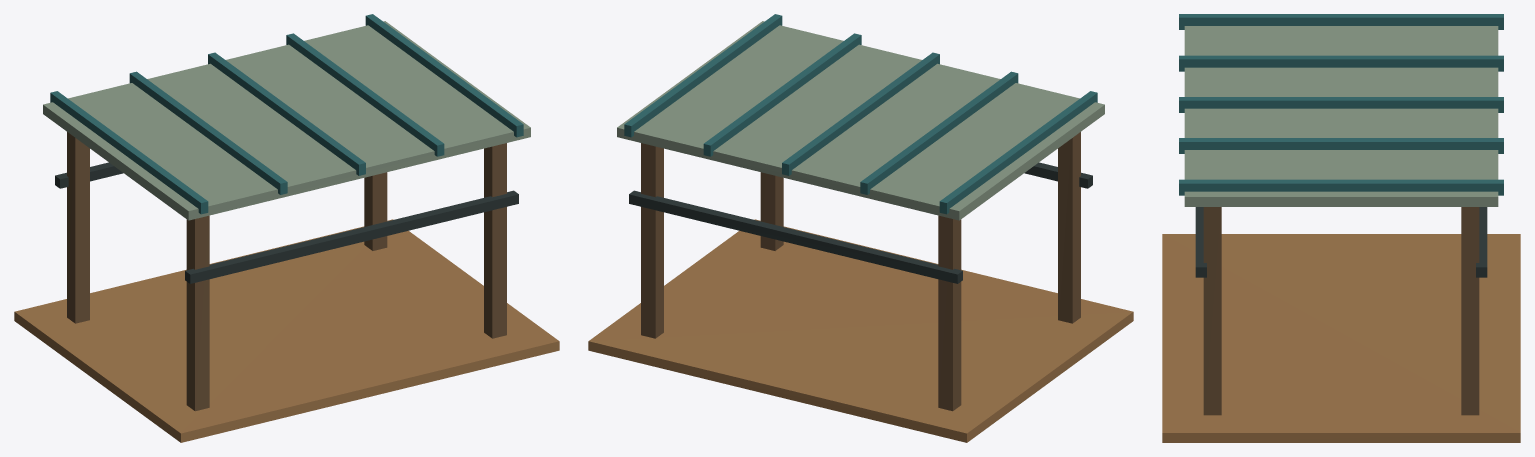
File: Shade-canopy.glb
The picture shows the model from 3 angles, left to right: view 1: azimuth 30°, elevation 25°; view 2: azimuth 150°, elevation 25°; view 3: azimuth 270°, elevation 25°; orthographic projection. The views are drawn at different scales.
Parts seen in each view (by area): view 1: shade-canopy-static-shade-earth, shade-canopy-static-shade-fabric, shade-canopy-static-shade-timber, shade-canopy-static-shade-teal, shade-canopy-static-shade-metal; view 2: shade-canopy-static-shade-earth, shade-canopy-static-shade-fabric, shade-canopy-static-shade-timber, shade-canopy-static-shade-teal, shade-canopy-static-shade-metal; view 3: shade-canopy-static-shade-earth, shade-canopy-static-shade-fabric, shade-canopy-static-shade-teal, shade-canopy-static-shade-timber, shade-canopy-static-shade-metal.
Boxes of the visible parts, bbox=[...] form: shade-canopy-static-shade-earth: bbox=[14, 219, 559, 442]; shade-canopy-static-shade-fabric: bbox=[43, 21, 530, 220]; shade-canopy-static-shade-timber: bbox=[67, 132, 506, 411]; shade-canopy-static-shade-teal: bbox=[50, 14, 523, 214]; shade-canopy-static-shade-metal: bbox=[55, 162, 518, 283]; shade-canopy-static-shade-earth: bbox=[588, 219, 1133, 442]; shade-canopy-static-shade-fabric: bbox=[617, 21, 1104, 220]; shade-canopy-static-shade-timber: bbox=[641, 132, 1080, 411]; shade-canopy-static-shade-teal: bbox=[624, 14, 1097, 214]; shade-canopy-static-shade-metal: bbox=[629, 162, 1092, 283]; shade-canopy-static-shade-earth: bbox=[1162, 234, 1520, 442]; shade-canopy-static-shade-fabric: bbox=[1184, 26, 1498, 206]; shade-canopy-static-shade-teal: bbox=[1179, 14, 1503, 195]; shade-canopy-static-shade-timber: bbox=[1203, 207, 1479, 415]; shade-canopy-static-shade-metal: bbox=[1195, 207, 1487, 277].
Size of the model in its own units: 4.2 by 2.41 by 3.2.
